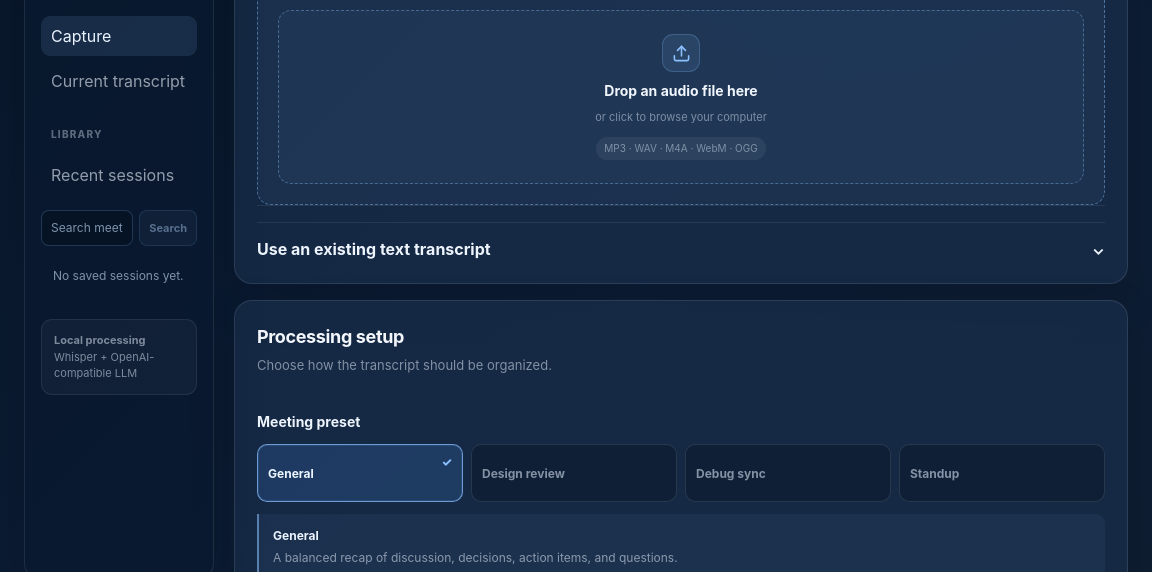
Test: App live transcript editor › keeps a pasted transcript available and reports an unexpected LLM failure
(page scrolled)
Click the heading "Use an existing text transcript ⌄" at point(374, 249), box [257,222,1105,261]
(page scrolled)
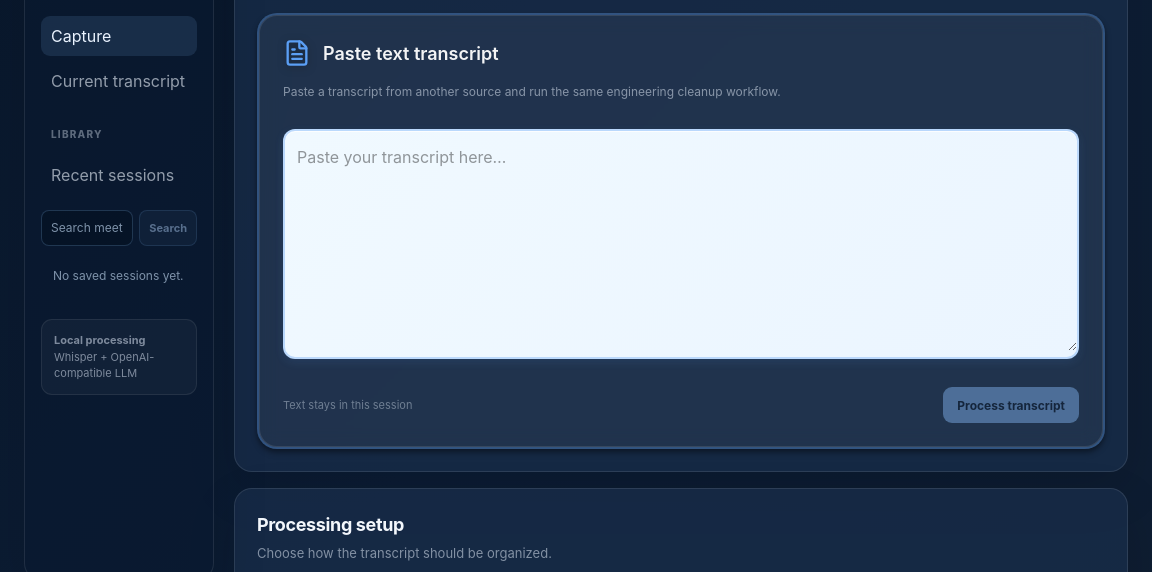
Type "The team discussed the pilot timeline." into the text box named "Text transcript input" at point(681, 241), box [285,131,1077,351]
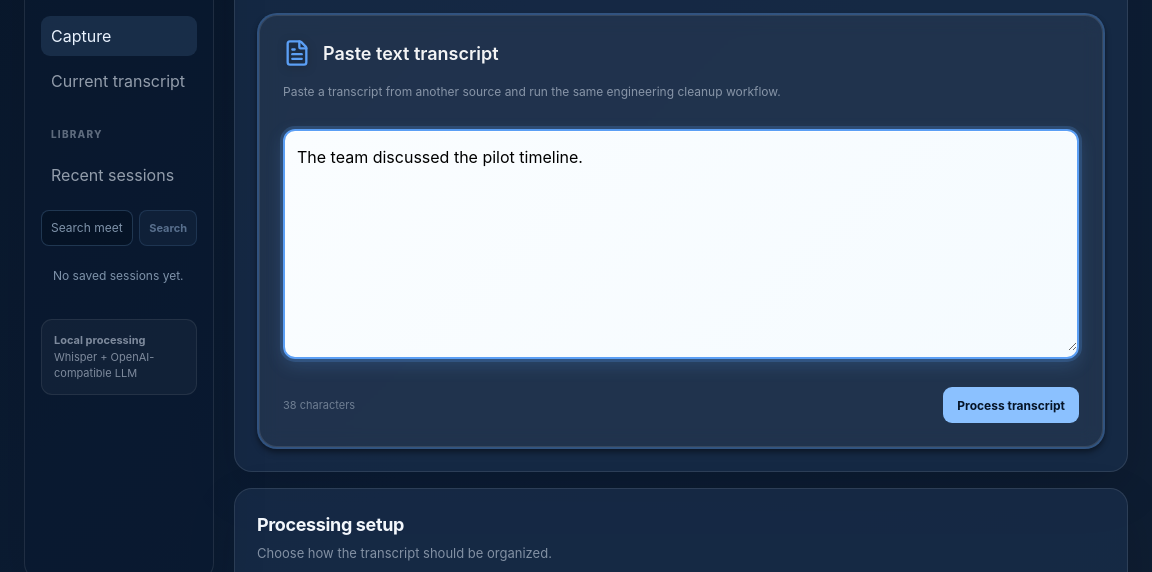
Click the button "Process transcript" at point(1011, 405), box [943,387,1079,423]
(page scrolled)
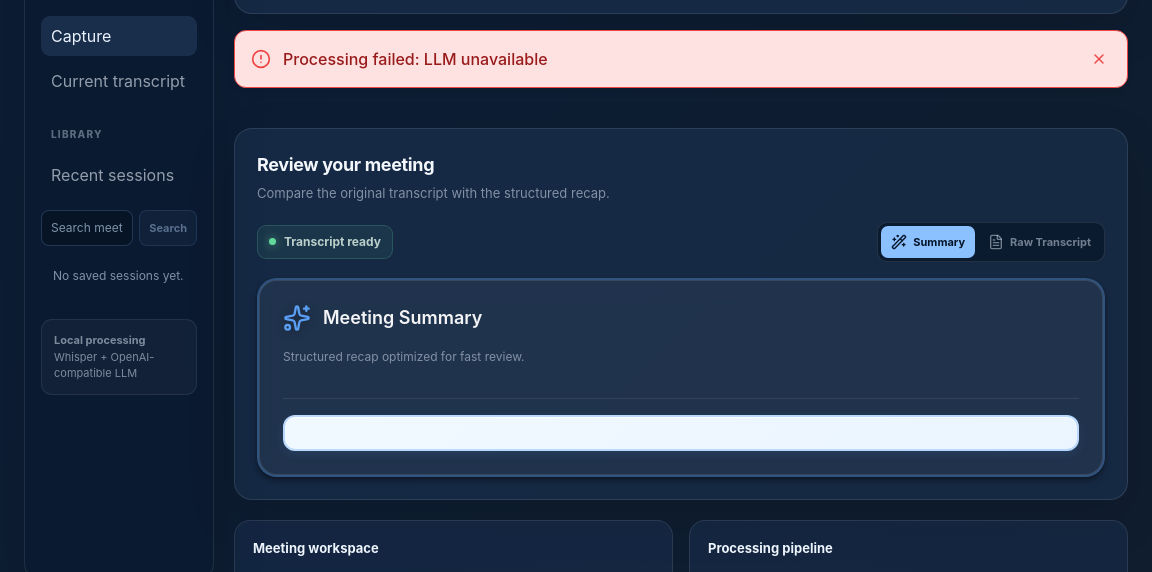
Expected: the text "Processing failed: LLM unavailable" is shown, [283,47,548,71]
Expected: the text "Transcript ready" is shown, [284,232,381,250]
